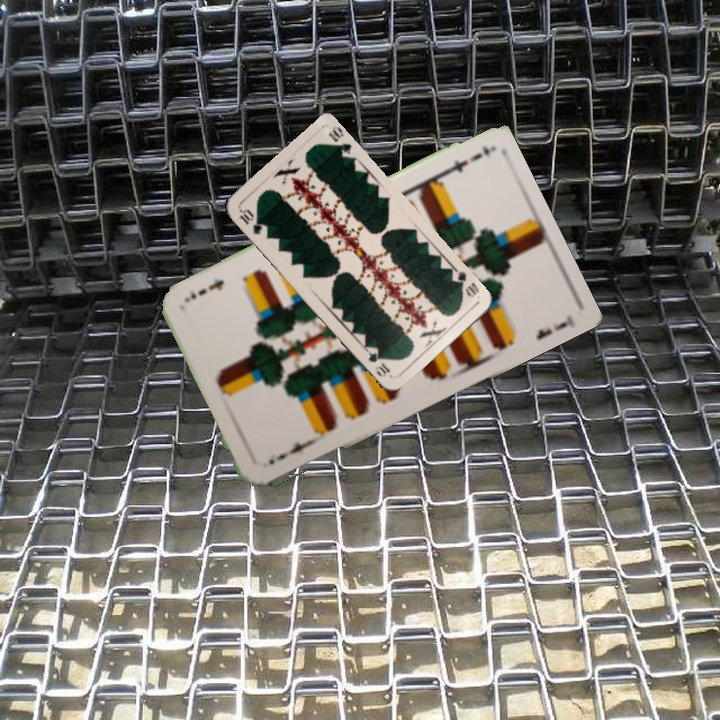E7: (264, 437, 314, 468), (436, 148, 485, 179)
G10: (451, 266, 482, 300), (235, 205, 265, 238)
